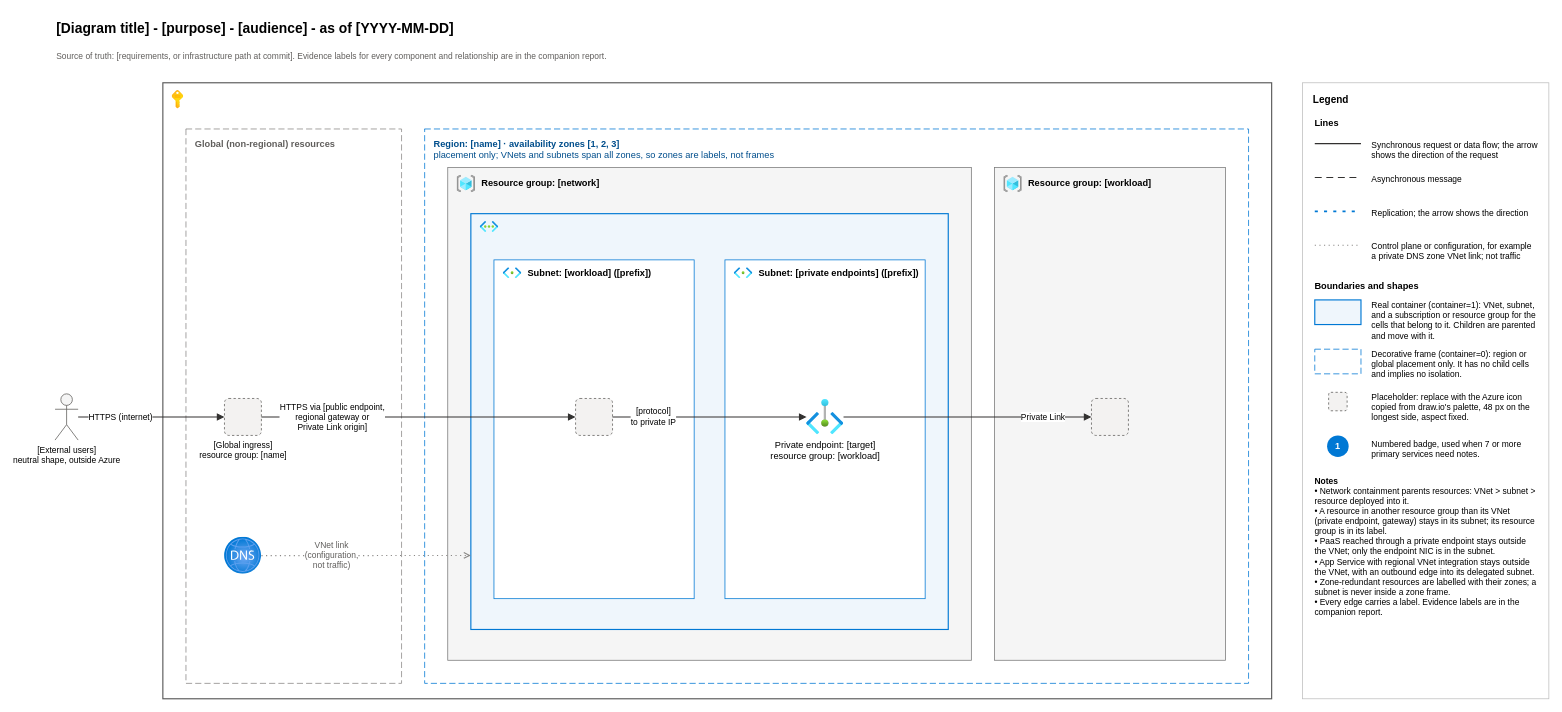
This 1562x712 diagram has some shape labels left out. Here are the shapes that lost their labels. From the top down, the centre of each, then its label:
At (177,99): "Subscription: [name] (ownership and billing scope)".
At (489,226): "VNet: [name] ([address space])".
At (594,416): "[Resource deployed into this subnet]".
At (1109,416): "[PaaS target] outside the VNet; public access [disabled]".
At (242,555): "Private DNS zone privatelink.[service zone] resource group: [name]".
